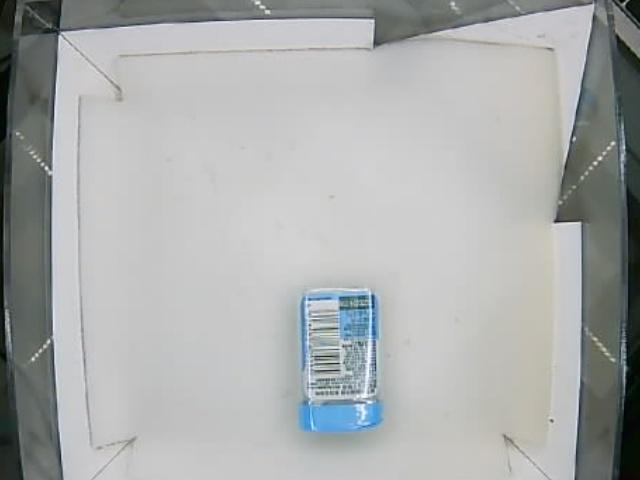Bottle: (295, 287, 384, 432)
